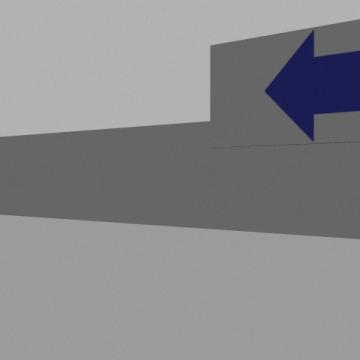blue_left: (265, 31, 359, 141)
